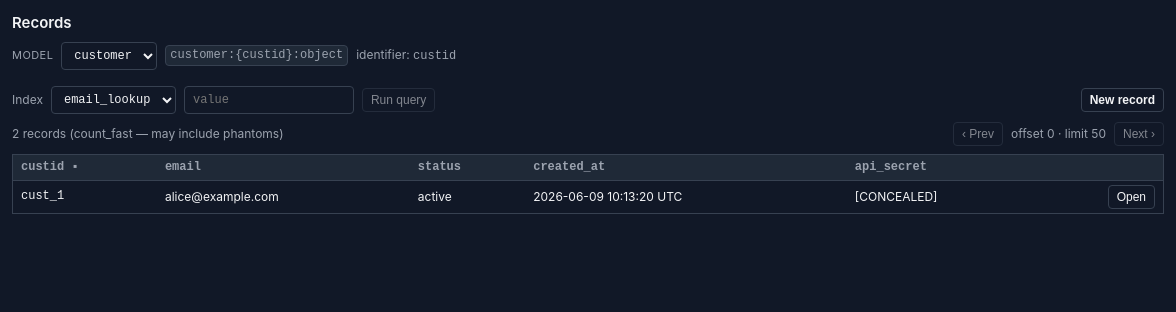
Test: index queries (T5 contract: no force, scan gate is a refusal) › scan_required renders the refusal gate — not an empty result, no force button
This screenshot has width=1176, height=312.
Expected: the table with test id "records-table" is shown, [12, 154, 1164, 214]
Step 1. Type "no-index-for-this" into the field with test id "records-query-value" → x=269, y=100, box [184, 86, 354, 114]
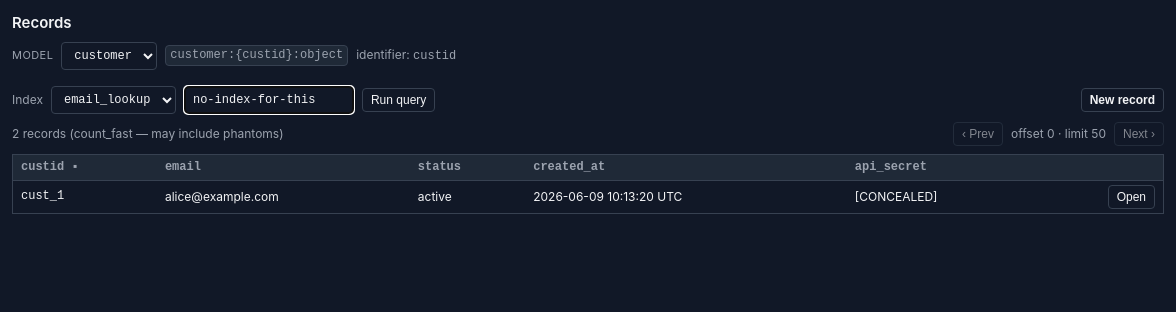
Step 2. Click the button with test id "records-query-run" → x=399, y=100, box [362, 88, 435, 112]
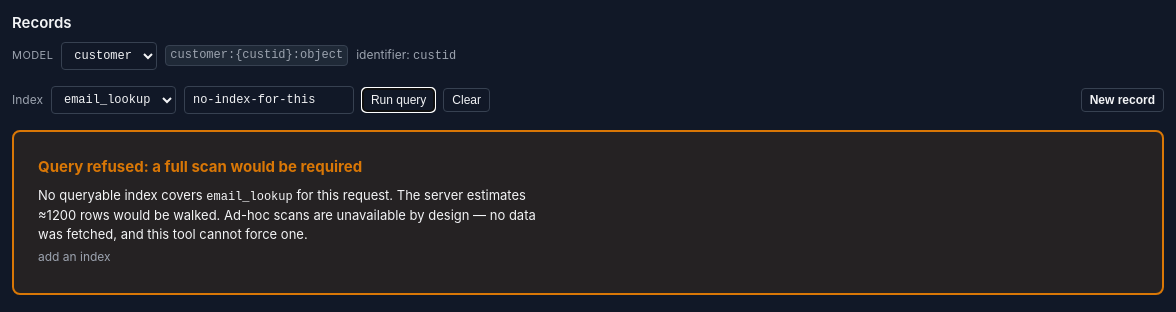
Result: the message with test id "records-scan-gate" shows "refused" at [38, 157, 362, 176]
Result: the message with test id "records-scan-gate" shows "1200" at [47, 207, 76, 223]
